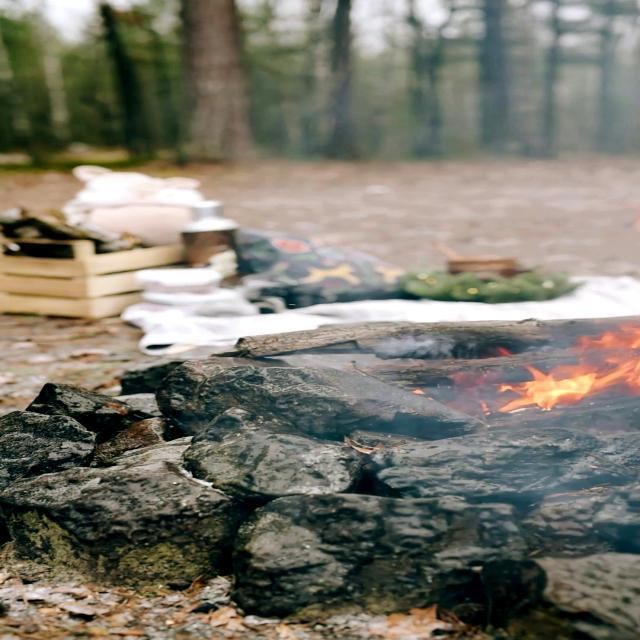Fire: (514, 332, 640, 416)
Smoke: (216, 45, 640, 304)
